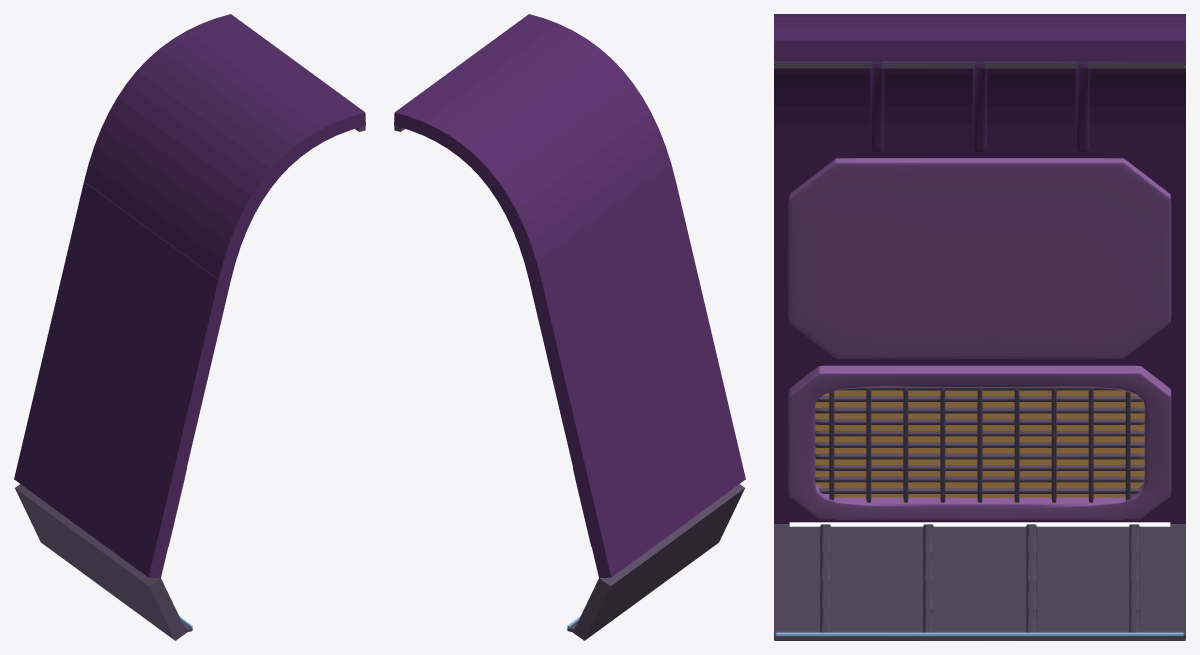
File: SM_SB_Kit_KeelShell_WallBayVent.fbx
The picture shows the model from 3 angles, left to right: view 1: azimuth 30°, elevation 25°; view 2: azimuth 150°, elevation 25°; view 3: azimuth 270°, elevation 25°; orthographic projection. The views are drawn at different scales.
Parts seen in each view (by area): view 1: SM_SB_Kit_KeelShell_WallBayVent; view 2: SM_SB_Kit_KeelShell_WallBayVent; view 3: SM_SB_Kit_KeelShell_WallBayVent.
Part boxes in pixels (<box>): SM_SB_Kit_KeelShell_WallBayVent: <box>14,14,365,640</box>; SM_SB_Kit_KeelShell_WallBayVent: <box>394,14,745,640</box>; SM_SB_Kit_KeelShell_WallBayVent: <box>774,14,1185,640</box>.
Bounding box in the file's own units: 373 × 400 × 791.
